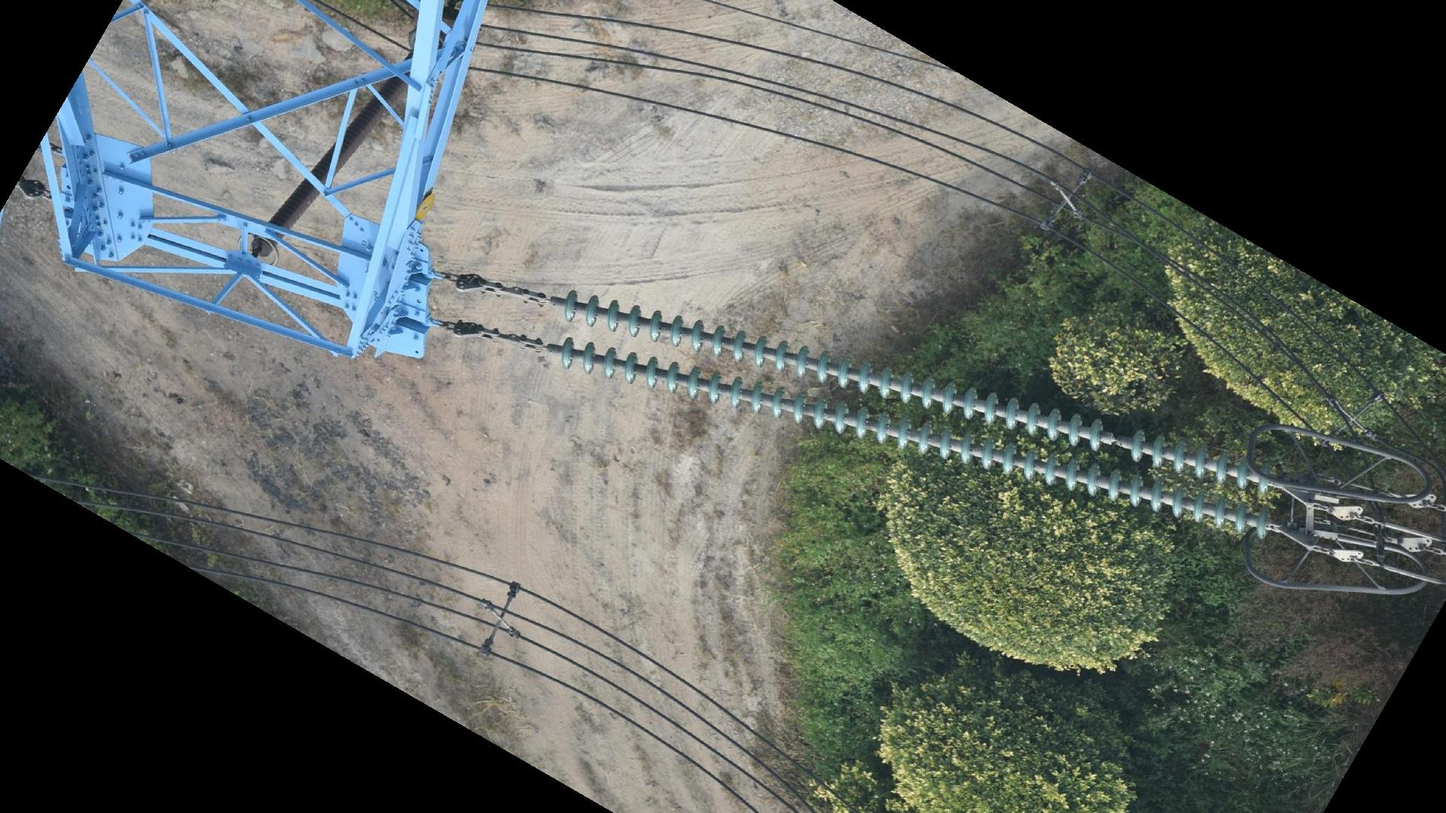insulator: (548, 287, 1287, 545), (249, 73, 408, 254)
insulator_stringdrop: (1085, 414, 1152, 468)
